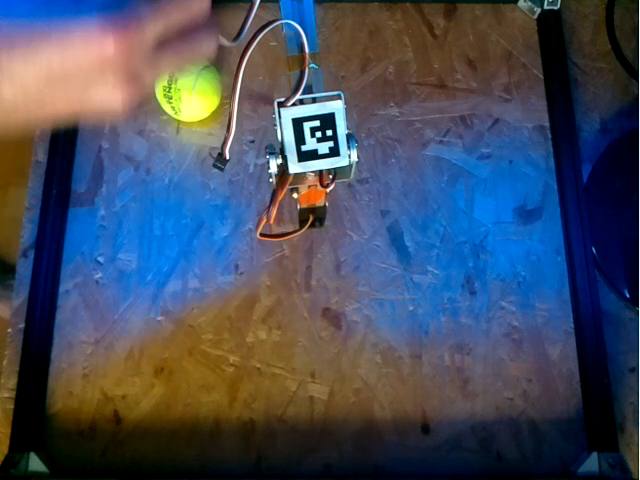tennis_ball: (155, 59, 223, 121)
